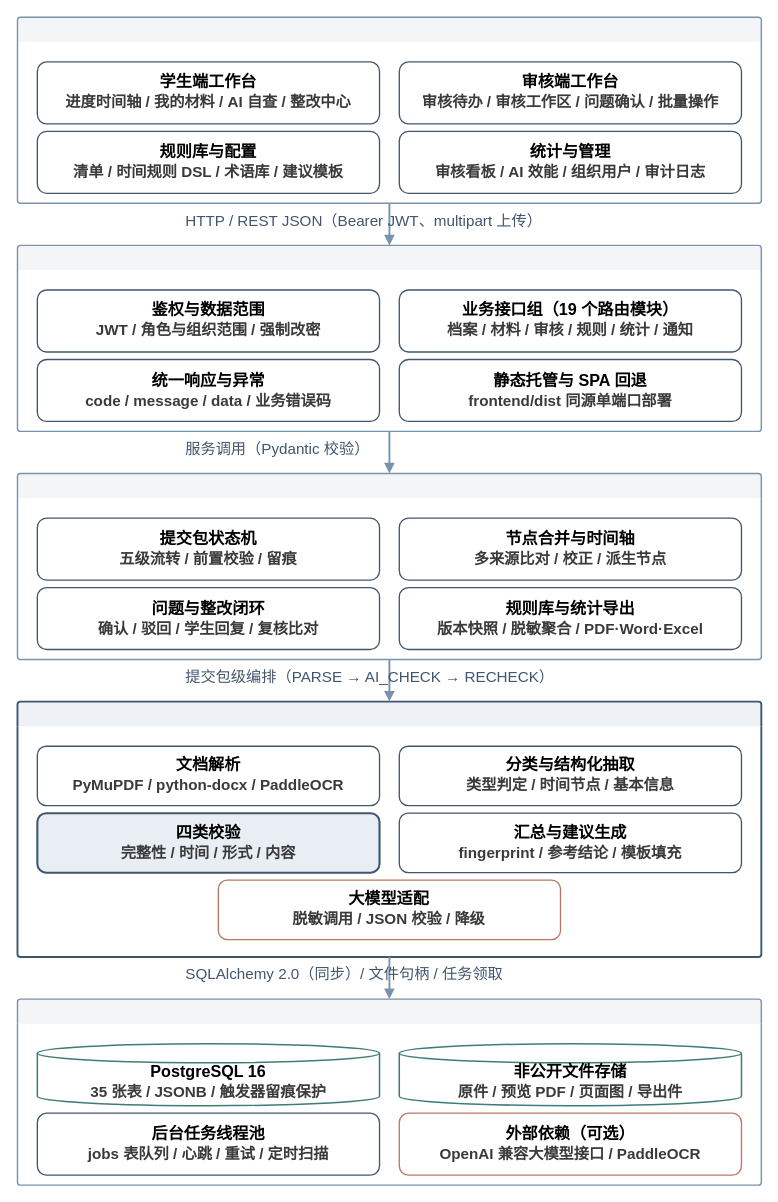
The diagram is 778 pixels wide and 1202 high, and some of its shapes have lost their labels. Each missing label, with the box of its shape:
业务服务层（services/，状态机与领域逻辑）: (16, 472, 762, 660)
展现层（React 19 + daisyUI 5 单页应用）: (16, 16, 762, 204)
接口层（FastAPI 路由，统一前缀 /api）: (16, 244, 762, 432)
数据与任务层: (16, 998, 762, 1185)
智能审核引擎（ai/，规则引擎 + 大模型协同）: (16, 700, 762, 957)
